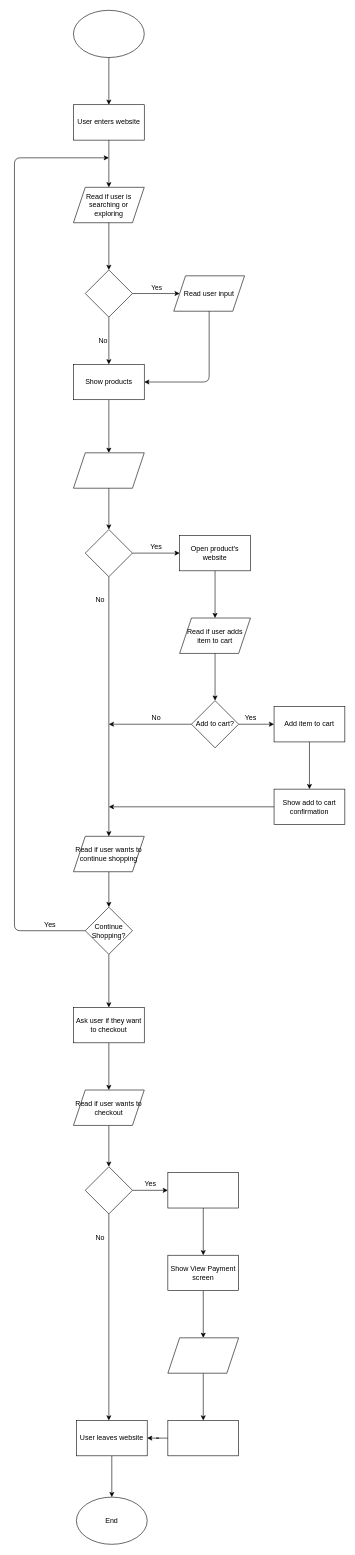
Image size: 355x1555. Some labels were removed from this diagram. Each missing label, with the centre of its shape:
Checkout?: point (108, 1190)
Get user payment information: point (203, 1355)
Process payment and show confirmation while also sending email: point (203, 1438)
Read if user is viewing a specific product: point (108, 470)
Searching?: point (108, 293)
Show View Cart screen: point (203, 1190)
Start: point (108, 34)
View specific product?: point (108, 553)
